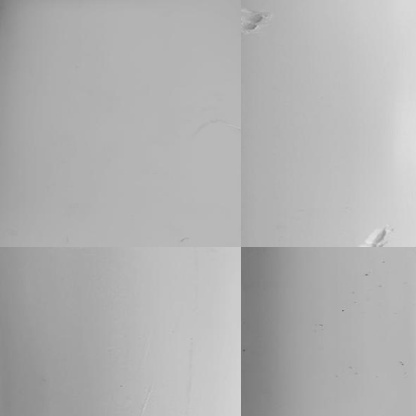sunshang: (238, 1, 274, 33), (359, 224, 392, 249)
